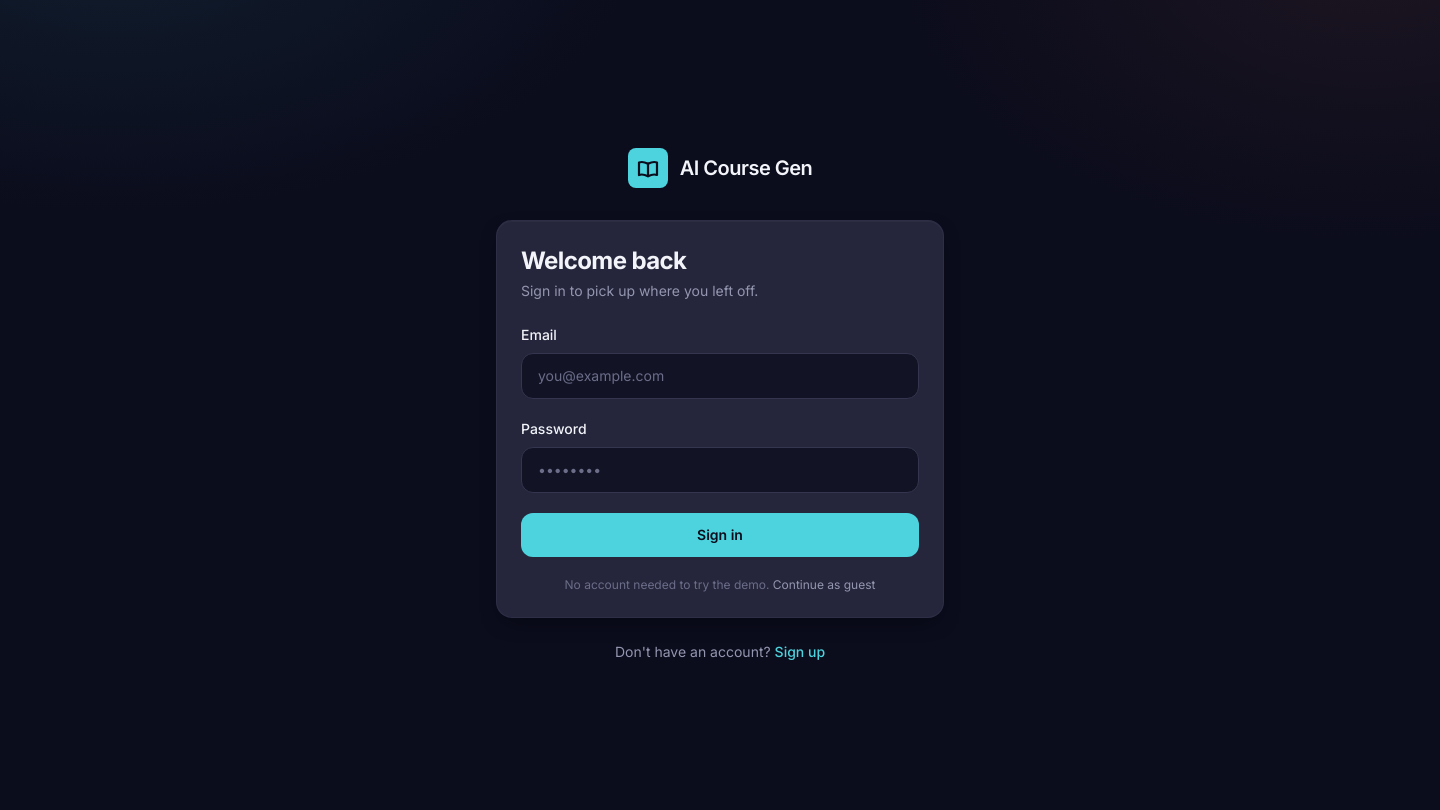
login: shows the server error
Type "a@b.com" into the field labelled "Email" at [720, 376], box [521, 353, 919, 399]
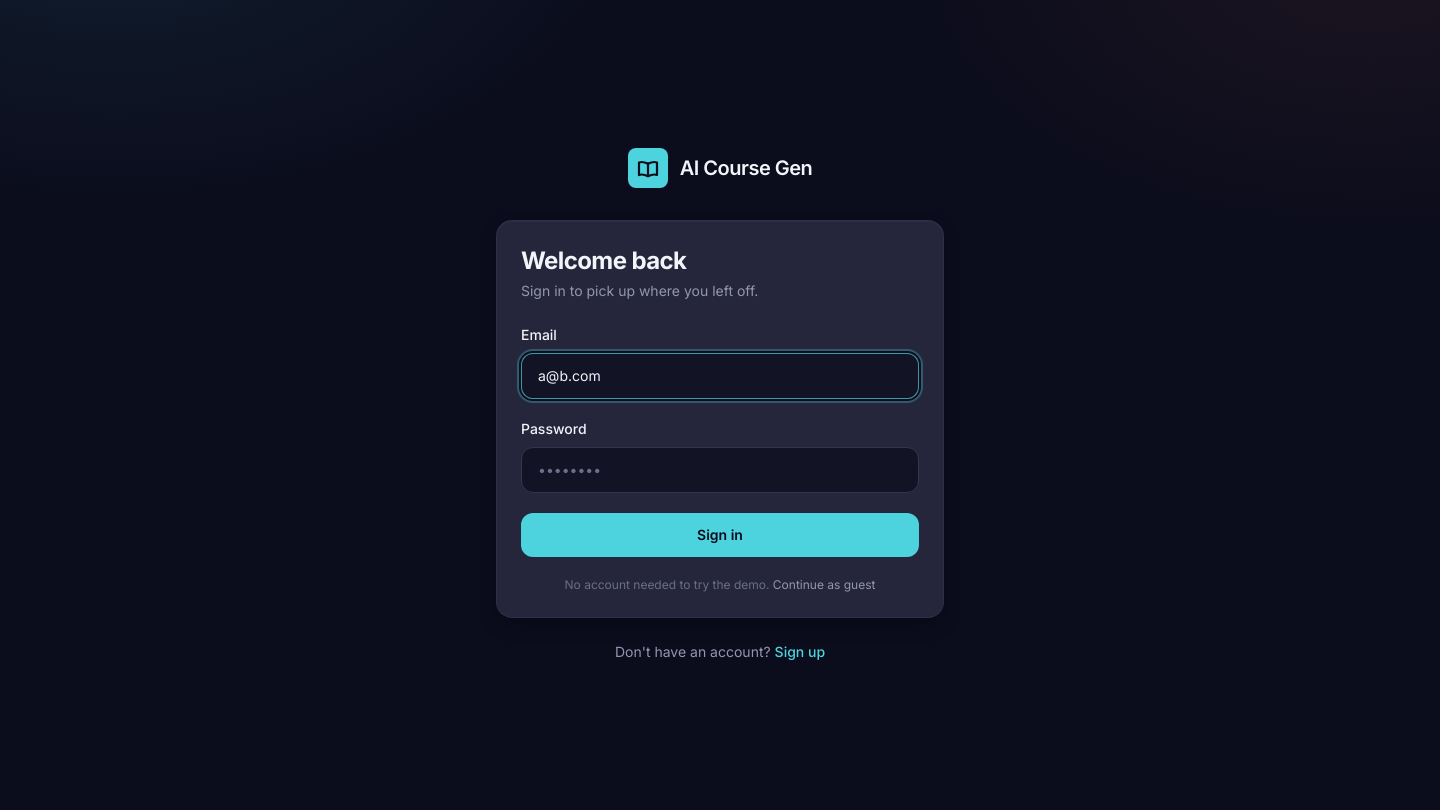
Type "wrong" into the password field labelled "Password" at [720, 470], box [521, 447, 919, 493]
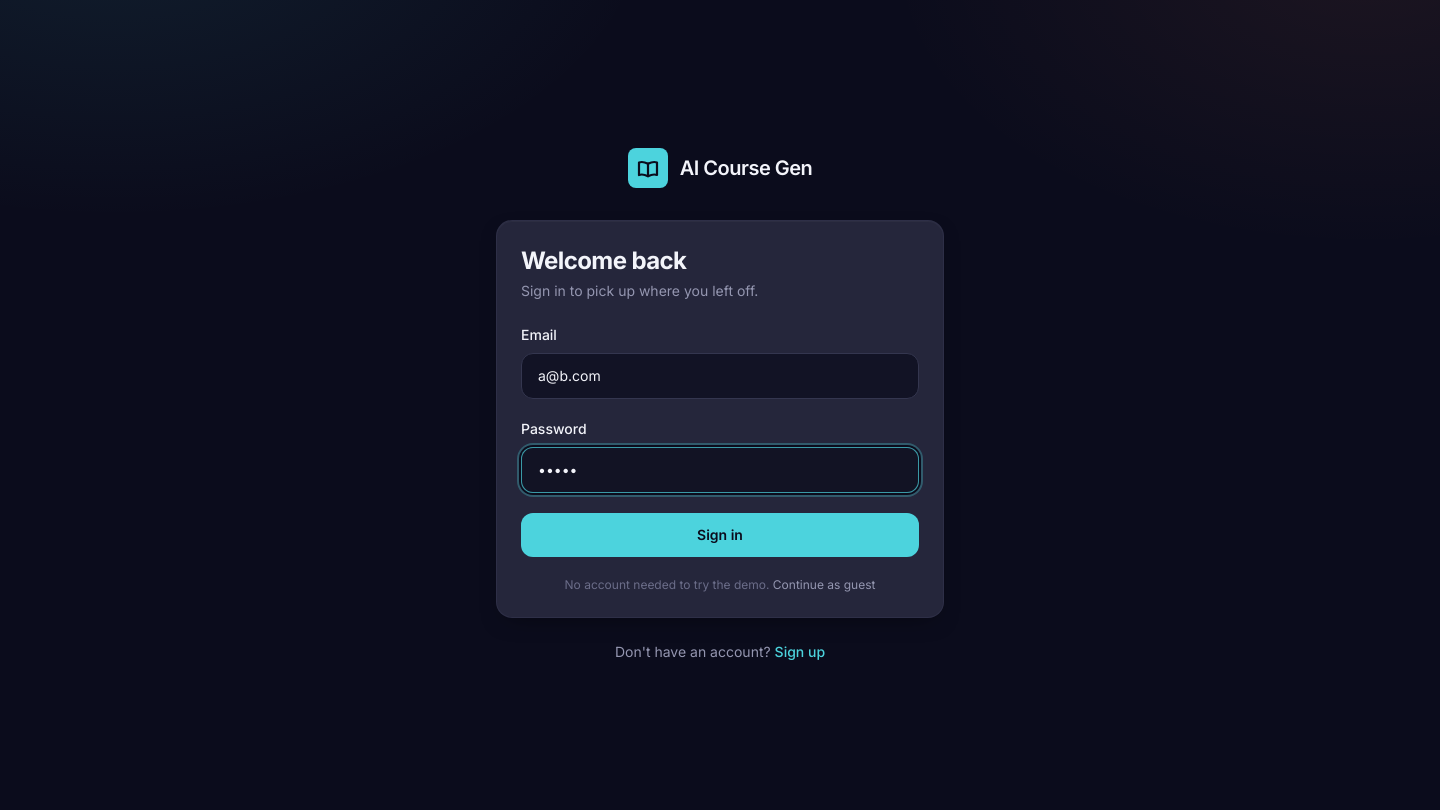
Click the button "Sign in" at [720, 535], box [521, 513, 919, 557]
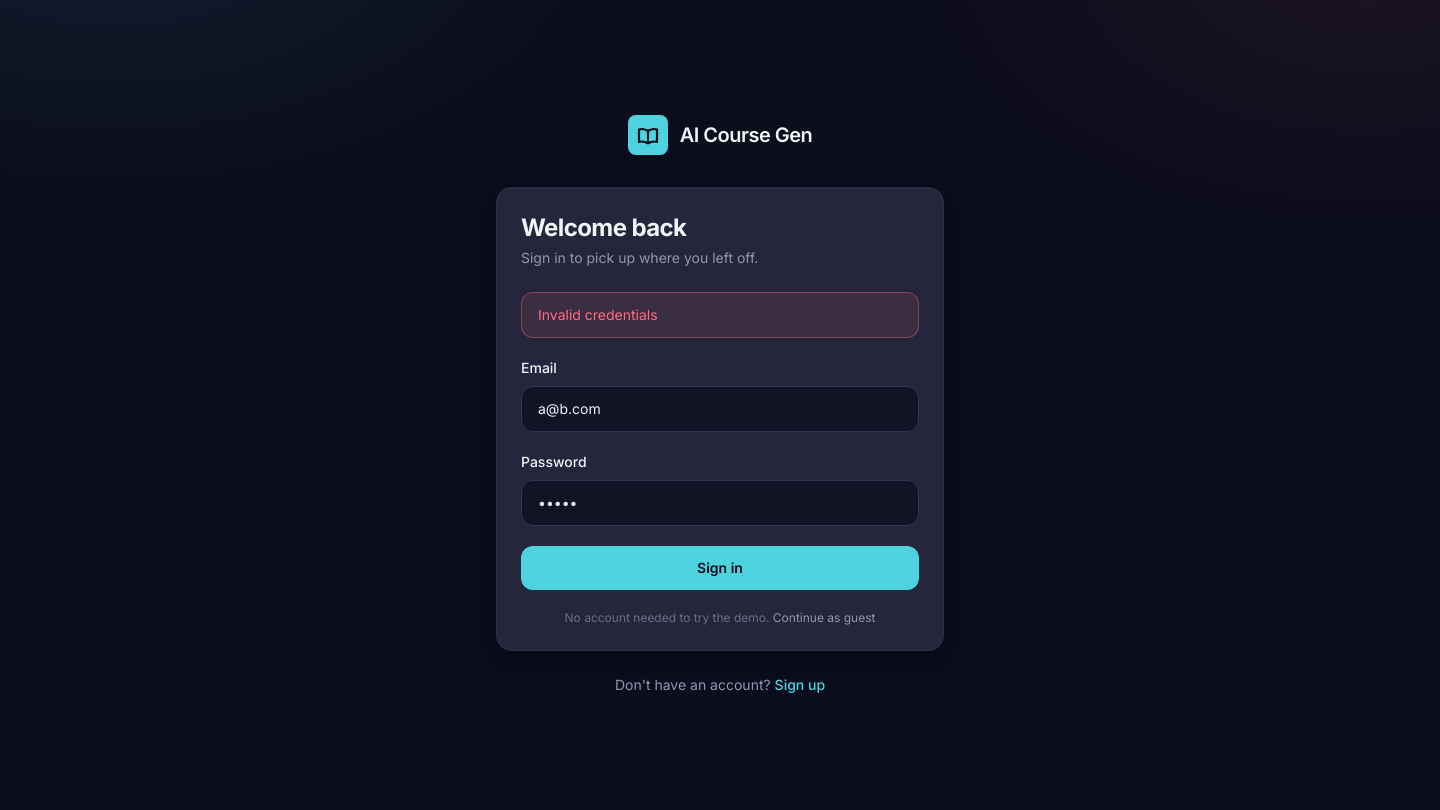
expect the message reads "Invalid credentials": met, box [538, 306, 658, 323]
